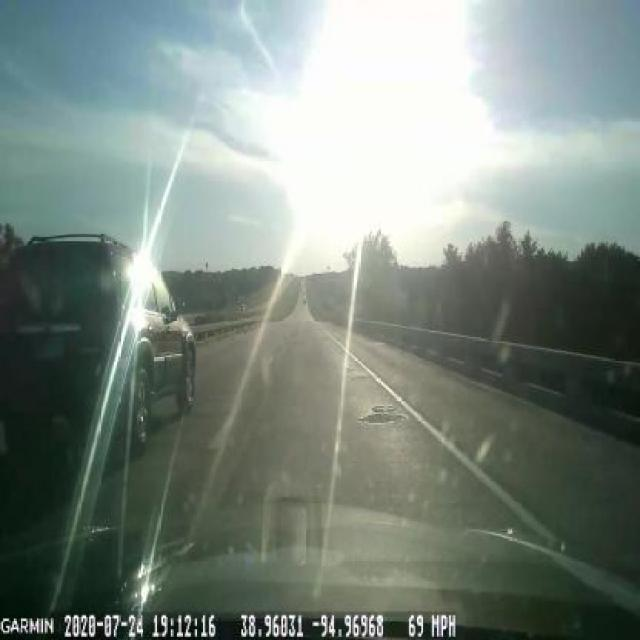pothole: (355, 397, 409, 435)
